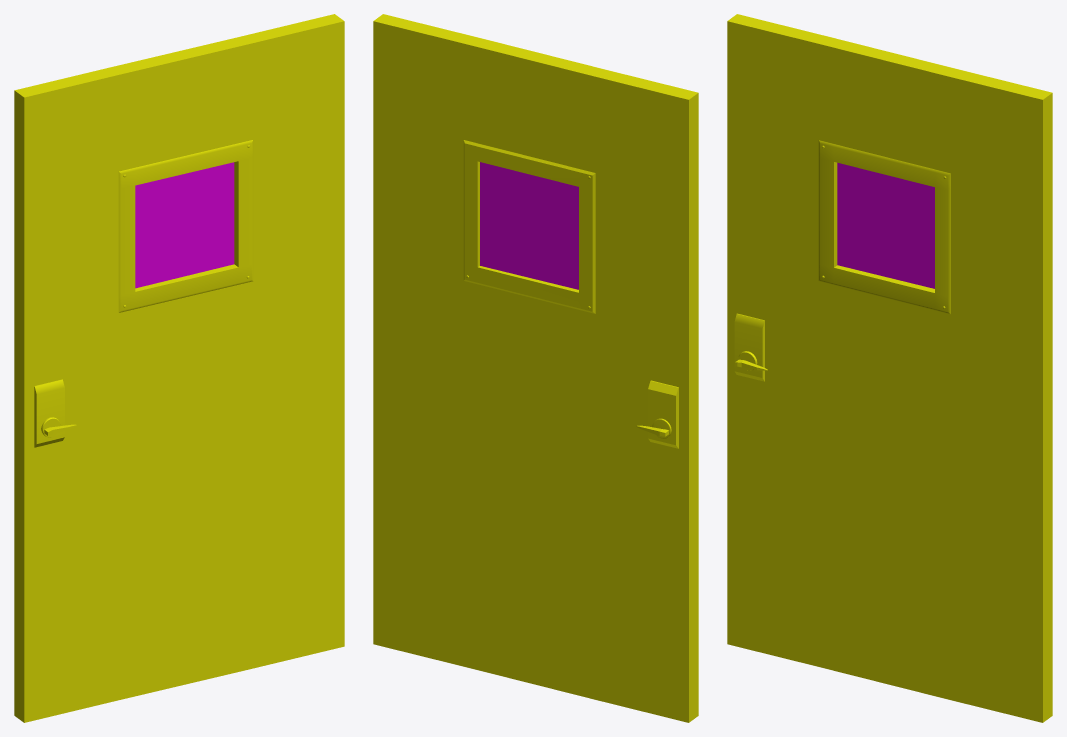
Rendered from SetoDoorNEW2.fbx.
3 views of the same model, side by side, from view 1: azimuth 30°, elevation 25°; view 2: azimuth 150°, elevation 25°; view 3: azimuth 330°, elevation 25° (orthographic).
Visible parts, largest first — view 1: DoorNEW2; view 2: DoorNEW2; view 3: DoorNEW2.
Part boxes in pixels (x1=…): DoorNEW2: x1=14, y1=14, x2=344, y2=722; DoorNEW2: x1=373, y1=14, x2=698, y2=722; DoorNEW2: x1=727, y1=14, x2=1052, y2=722.
Bounding box in the file's own units: 120 × 226 × 16.71.
